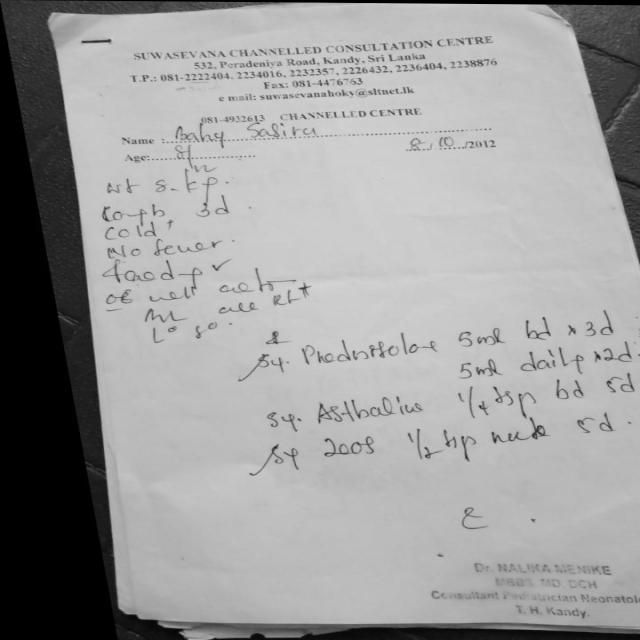Prescription: (276, 296, 638, 394), (294, 367, 630, 430), (294, 407, 618, 467)
